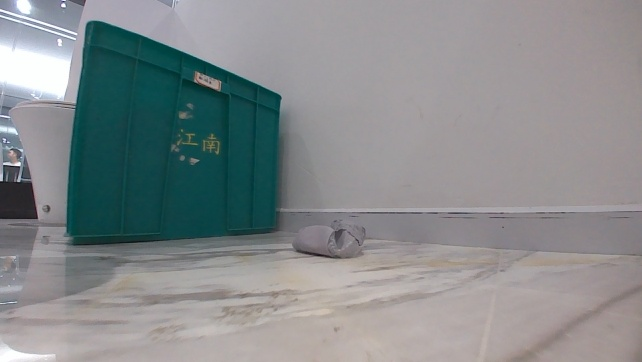socks: (288, 215, 369, 261)
toilet: (5, 94, 75, 226)
